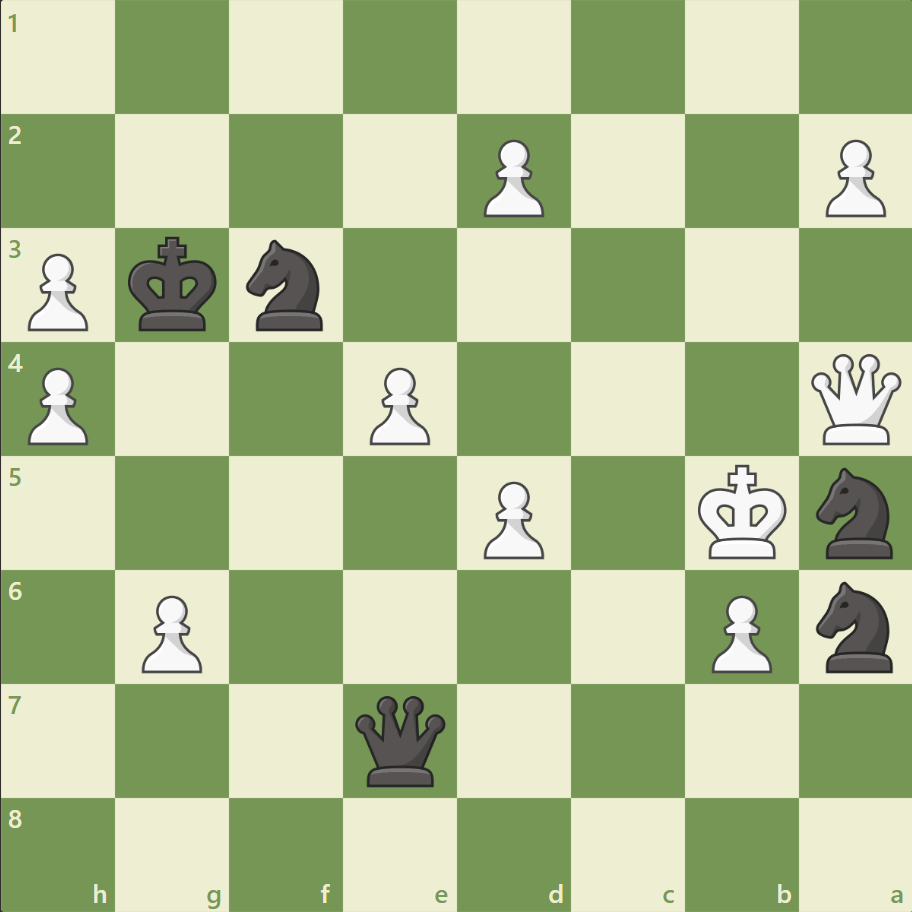K: (692, 458, 792, 566)
P: (701, 586, 776, 677), (133, 586, 208, 677), (474, 473, 549, 564), (20, 359, 95, 450), (20, 246, 95, 337), (474, 132, 549, 223), (361, 359, 435, 450), (815, 132, 889, 223)
Q: (805, 349, 904, 449)
k: (124, 231, 224, 339)
n: (806, 461, 903, 564), (238, 234, 335, 337), (806, 575, 903, 677)
q: (351, 690, 450, 789)
